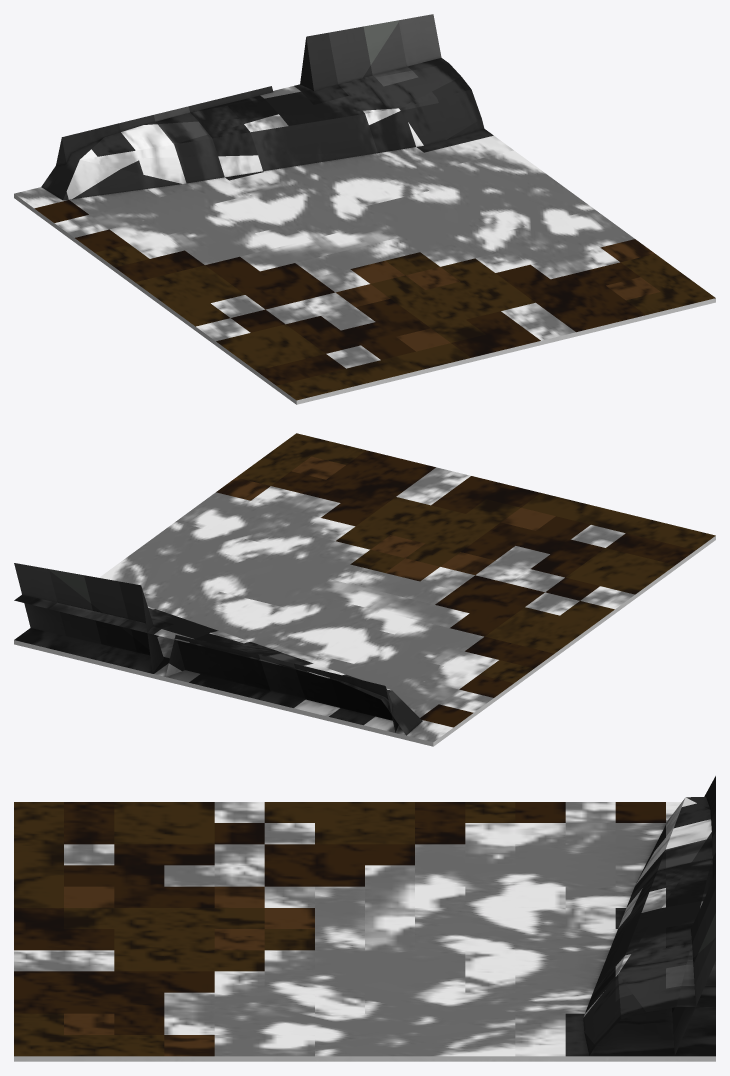
The model's file is newshe-39.glb.
The picture shows the model from 3 angles, top to bottom: view 1: azimuth 30°, elevation 25°; view 2: azimuth 150°, elevation 25°; view 3: azimuth 270°, elevation 25°; orthographic projection. The views are drawn at different scales.
Parts seen in each view (by area): view 1: newshe-39; view 2: newshe-39; view 3: newshe-39.
Part boxes in pixels (bbox=[...]): newshe-39: bbox=[14, 14, 715, 404]; newshe-39: bbox=[14, 433, 715, 746]; newshe-39: bbox=[14, 776, 715, 1061].
Size of the model in its own units: 2 by 0.4106 by 2.33.
13 materials, 13 textured.
